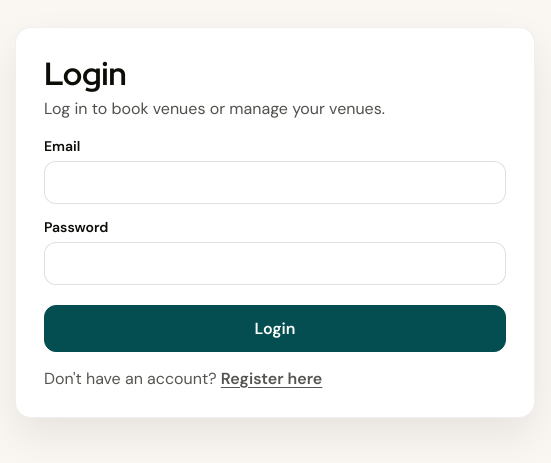
Scenario: Login page › shows email validation error for invalid email
The width and height of the screenshot is (551, 463).
Type "not-an-email" into the field labelled "Email".
click(275, 182); type("not-an-email")  # box [44, 161, 506, 204]
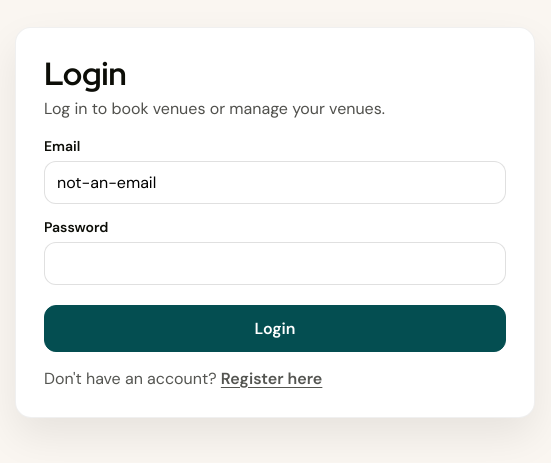
Type "password123" into the password field labelled "Password".
click(275, 263); type("password123")  # box [44, 242, 506, 285]
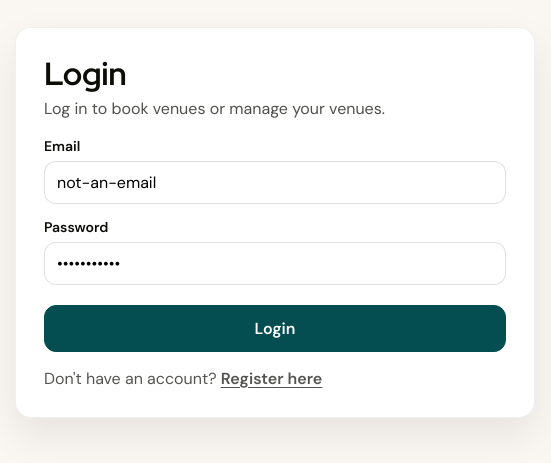
Click the button "Login".
click(275, 328)  # box [44, 305, 506, 352]
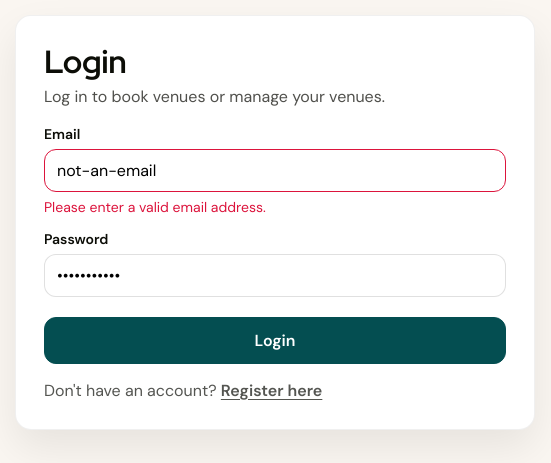
Expected: the text "Please enter a valid email address." is shown, [44, 198, 266, 216]
